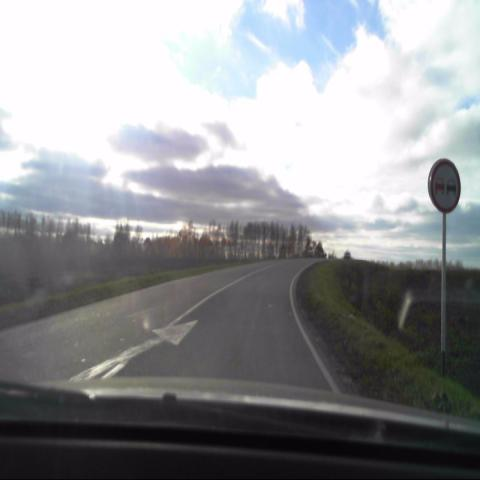3_20: (428, 158, 460, 214)
